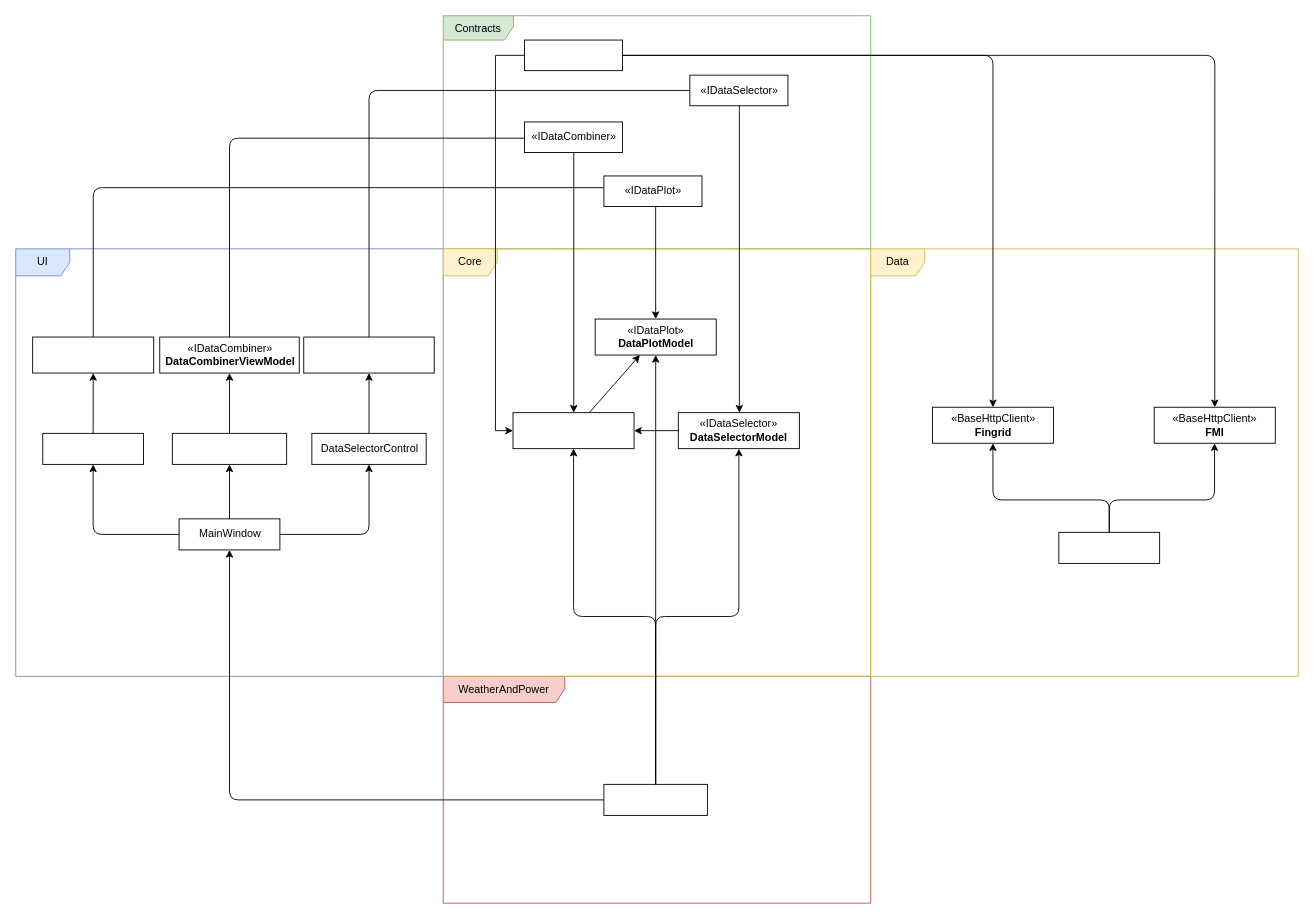
Some shapes in this 1314 by 919 pixel diagram are drawn without their labels. Here are the shapes that lost their labels. From the top down, the centre of each, then its label:
(x=573, y=55): «IApi»
(x=93, y=354): «IDataPlot» DataPlotViewModel
(x=368, y=354): «IDataSelector» DataSelectorViewModel
(x=93, y=448): DataPlotView
(x=229, y=448): DataCombinerControl
(x=573, y=430): «IDataCombiner» DataCombinerModel
(x=1109, y=547): BaseHttpClient
(x=655, y=799): App.xaml
